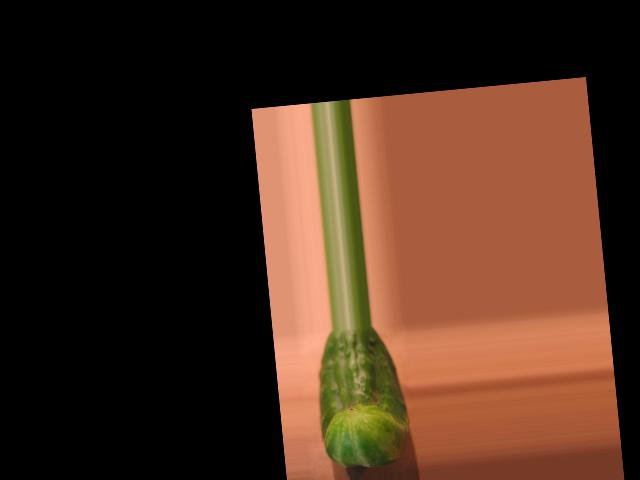cucumber: (311, 323, 412, 471)
